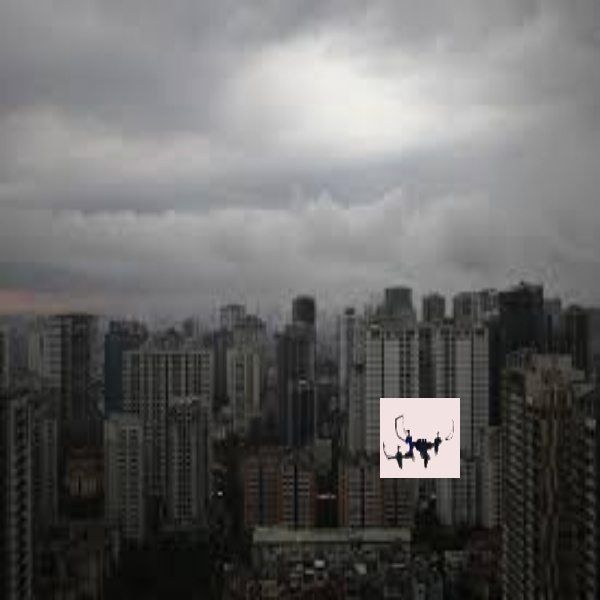drone: (381, 401, 459, 477)
